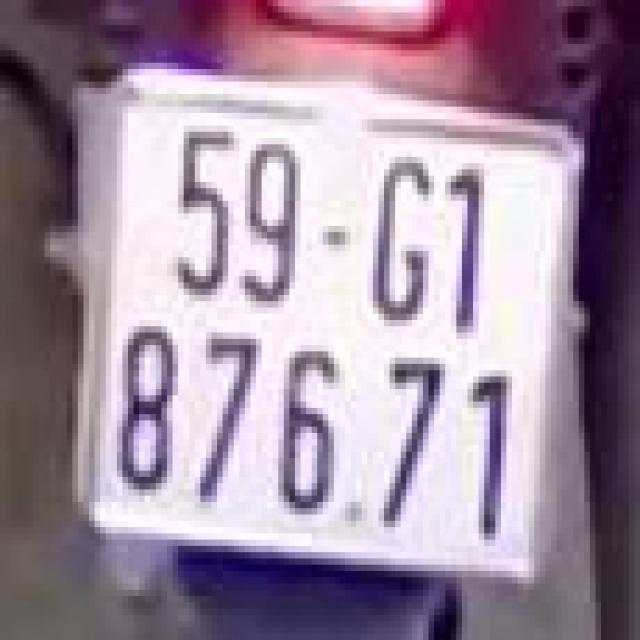1: (456, 361, 512, 549), (442, 160, 492, 342)
5: (172, 119, 234, 301)
6: (278, 339, 345, 514)
7: (378, 348, 446, 530), (198, 326, 264, 502)
8: (117, 317, 172, 492)
9: (239, 138, 306, 307)
G: (367, 148, 434, 330)
